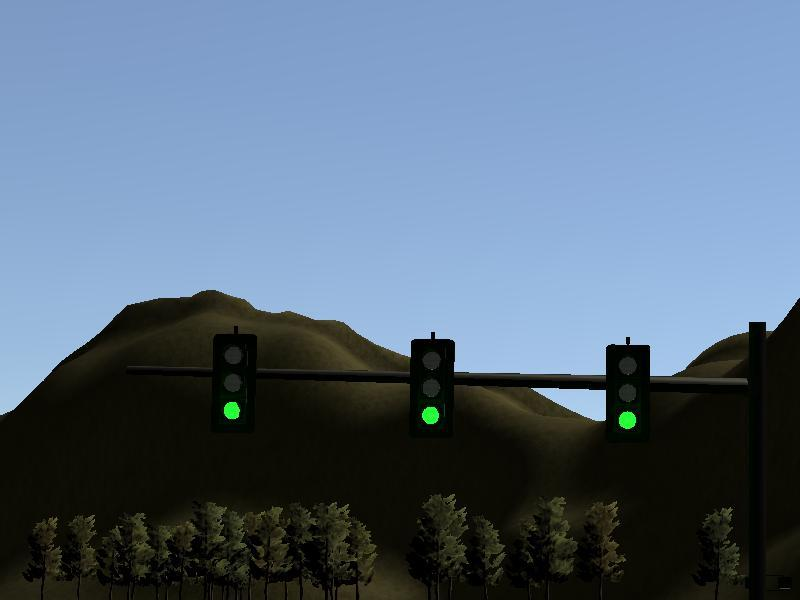Green: (212, 334, 257, 436), (605, 344, 650, 446), (409, 338, 454, 440)
